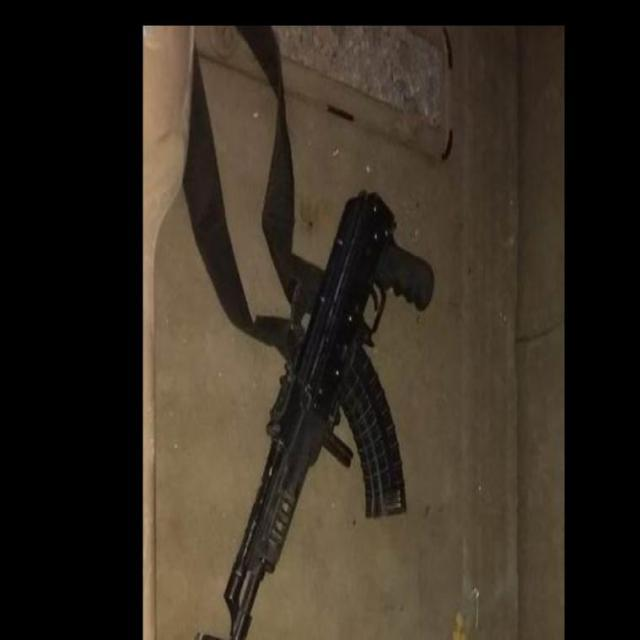weapon: (224, 190, 435, 640)
